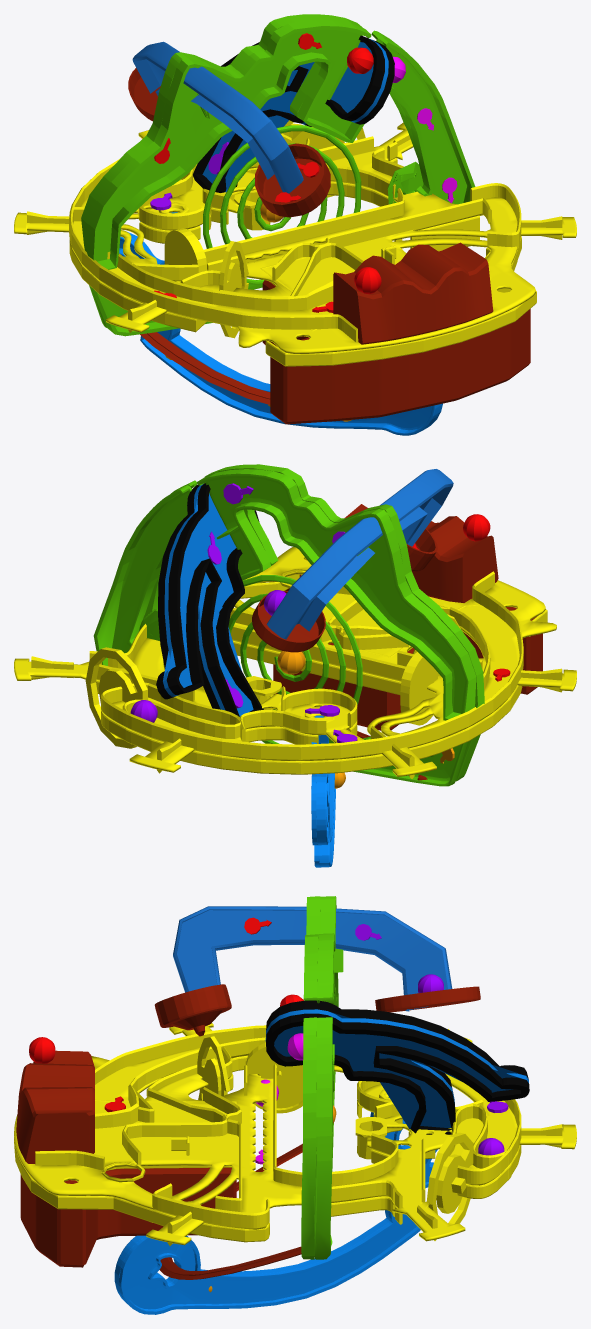
File: Maze_Ball_Test_0.1.fbx
3 views of the same model, one above another, from view 1: azimuth 30°, elevation 25°; view 2: azimuth 150°, elevation 25°; view 3: azimuth 270°, elevation 25° (orthographic).
Visible parts, largest first — view 1: Yellow1, object 8, Back_Red_Part, Start_Red_Part, pCube5, svgMesh2, _group1贝塞尔圇, _group1平面圆环., _group1圆环.010, object 42, pSphere1, pSphere2; view 2: Yellow1, object 8, svgMesh2, pCube5, Start_Red_Part, Back_Red_Part, _group1贝塞尔圇, object 42, _group1平面圆环., pSphere1, pSphere6; view 3: Yellow1, svgMesh2, _group1贝塞尔圇, pCube5, object 8, Back_Red_Part, Start_Red_Part, _group1平面圆环., _group1圆环.010, object 42, pSphere1.
Part boxes in pixels (x1=…): Yellow1: x1=14, y1=120, x2=576, y2=366; object 8: x1=81, y1=14, x2=475, y2=336; Back_Red_Part: x1=262, y1=280, x2=530, y2=424; Start_Red_Part: x1=333, y1=242, x2=493, y2=344; pCube5: x1=132, y1=41, x2=303, y2=193; svgMesh2: x1=193, y1=35, x2=394, y2=192; _group1贝塞尔圇: x1=119, y1=212, x2=442, y2=435; _group1平面圆环.: x1=255, y1=143, x2=330, y2=217; _group1圆环.010: x1=140, y1=332, x2=270, y2=404; object 42: x1=128, y1=68, x2=160, y2=121; pSphere1: x1=354, y1=267, x2=381, y2=294; pSphere2: x1=347, y1=47, x2=373, y2=73; Yellow1: x1=14, y1=547, x2=576, y2=778; object 8: x1=93, y1=464, x2=484, y2=786; svgMesh2: x1=156, y1=483, x2=263, y2=716; pCube5: x1=266, y1=469, x2=453, y2=639; Start_Red_Part: x1=344, y1=504, x2=498, y2=602; Back_Red_Part: x1=273, y1=559, x2=542, y2=730; _group1贝塞尔圇: x1=311, y1=715, x2=335, y2=867; object 42: x1=252, y1=591, x2=325, y2=652; _group1平面圆环.: x1=406, y1=528, x2=437, y2=571; pSphere1: x1=463, y1=514, x2=490, y2=541; pSphere6: x1=277, y1=651, x2=305, y2=674; Yellow1: x1=14, y1=1023, x2=576, y2=1245; svgMesh2: x1=265, y1=1000, x2=529, y2=1134; _group1贝塞尔圇: x1=114, y1=1097, x2=437, y2=1314; pCube5: x1=173, y1=906, x2=452, y2=1011; object 8: x1=301, y1=896, x2=343, y2=1259; Back_Red_Part: x1=20, y1=1167, x2=236, y2=1267; Start_Red_Part: x1=16, y1=1050, x2=94, y2=1163; _group1平面圆环.: x1=154, y1=984, x2=231, y2=1036; _group1圆环.010: x1=159, y1=1143, x2=302, y2=1279; object 42: x1=375, y1=986, x2=480, y2=1012; pSphere1: x1=29, y1=1037, x2=55, y2=1063.
Size of the model in its own units: 24.97 by 19.7 by 26.62.
